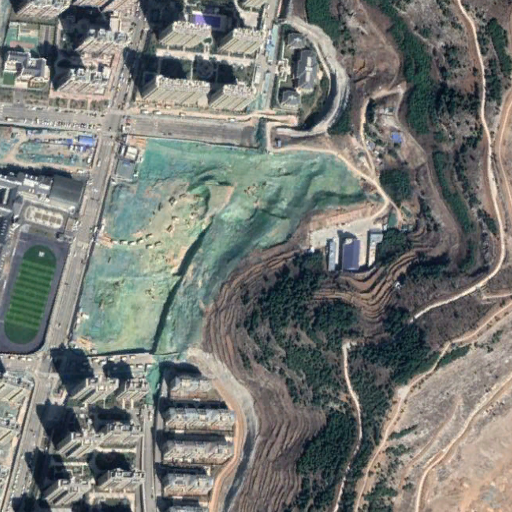cw: (78, 138, 388, 346), (11, 134, 94, 168)
